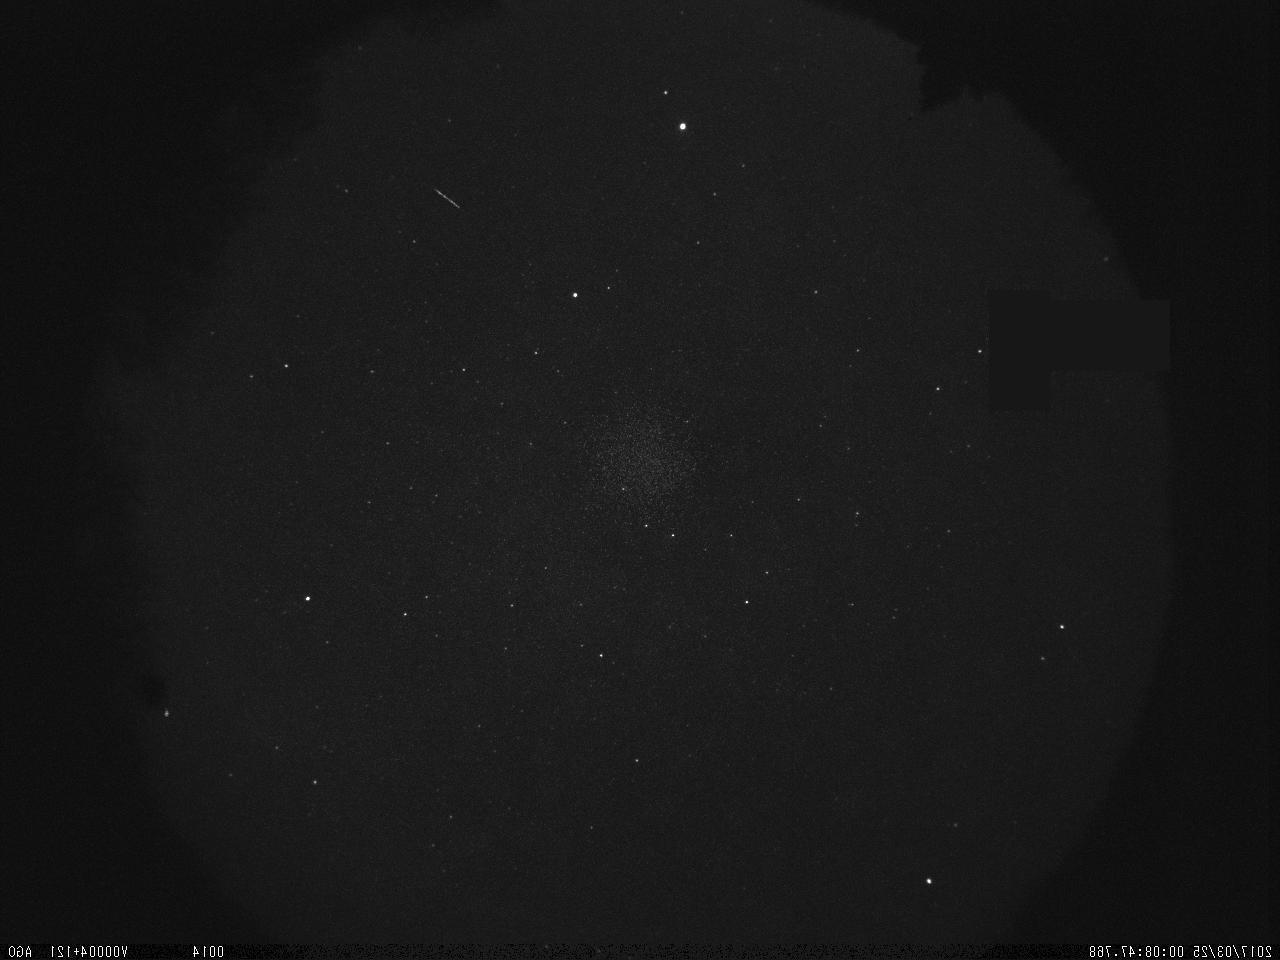meteor: (422, 178, 474, 214)
